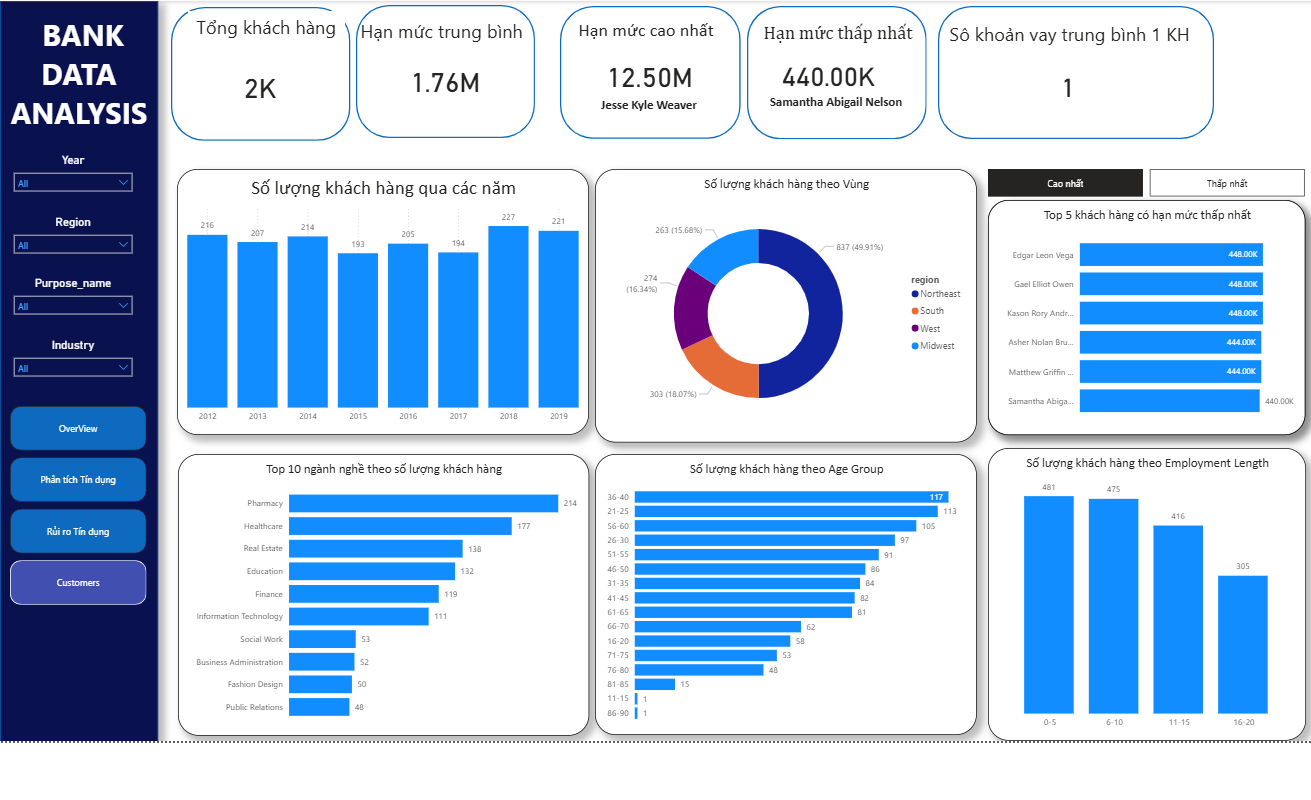

Layout of this report page (visuals, bound fields, positions):
{"tool":"powerbi","page":{"name":"Customers","canvas":[1920,1080],"ordinal":3},"visuals":[{"type":"shape","box":[0,0,230.8,1080.8],"z":0},{"type":"textbox","box":[0,14.4,230.5,267.6],"z":1000},{"type":"clusteredColumnChart","title":"Số lượng khách hàng qua các năm","fields":{"Category":["dim_date.year"],"Y":["Measure_Page1.Số lượng khách hàng"]},"box":[258.2,245.1,601.1,388.1],"z":3000},{"type":"shape","box":[249.6,8.7,261.8,195.5],"z":4000},{"type":"textbox","box":[274,14,228.7,47.1],"z":5000},{"type":"shape","box":[519.4,5.8,261.2,194],"z":6000},{"type":"cardVisual","fields":{"Data":["Measure_Page1.Số lượng khách hàng"]},"box":[258.2,75.9,243.6,93.4],"z":7000},{"type":"textbox","box":[520.9,20.4,259.7,55.4],"z":8000},{"type":"shape","box":[816.9,7,263.6,193.7],"z":9000},{"type":"textbox","box":[838.9,20.4,240.7,55.4],"z":10000},{"type":"shape","box":[1089.5,7.3,262.3,194.4],"z":11000},{"type":"textbox","box":[1108.8,24.8,243.6,54],"z":12000},{"type":"shape","box":[1368.5,7.3,402.7,194],"z":13000},{"type":"cardVisual","fields":{"Data":["Measure_custom.Hạn mức của KH thấp nhất"]},"box":[1124.1,62.8,192,80.3],"z":14000},{"type":"textbox","box":[1380.7,24.4,363.1,50.6],"z":15000},{"type":"clusteredColumnChart","title":"Số lượng khách hàng theo Employment Length","fields":{"Category":["dim_customer.employment_length_group"],"Y":["Measure_Page1.Số lượng khách hàng"]},"box":[1441.5,652.2,464,427.5],"z":16000},{"type":"clusteredBarChart","title":"Top 5 khách hàng có hạn mức cao nhất","fields":{"Category":["dim_customer.full_name"],"Y":["Measure_Page1.Tổng hạn mức tín dụng"]},"box":[1441.3,290.1,463.4,342.5],"z":17000},{"type":"cardVisual","fields":{"Data":["Measure_custom.Hạn mức TB mỗi khách hàng"]},"box":[528.1,67.1,243.6,93.4],"z":20000},{"type":"cardVisual","fields":{"Data":["Measure_custom.Hạn mức của KH cao nhất"]},"box":[825.6,64.6,244.4,83.8],"z":21000},{"type":"cardVisual","fields":{"Data":["Measure_custom.Số khoản vay TB mỗi khách hàng"]},"box":[1530.8,78.5,83.8,78.5],"z":22000},{"type":"clusteredBarChart","title":"Top 10 ngành nghề theo số lượng khách hàng","fields":{"Category":["dim_job.industry"],"Y":["Measure_Page1.Số lượng khách hàng"]},"box":[259.3,661,599.5,410.7],"z":25000},{"type":"slicer","title":"Year","fields":{"Values":["dim_date.year"]},"box":[10.2,221.8,192.6,74.4],"z":26000},{"type":"slicer","title":"Region","fields":{"Values":["dim_location.region"]},"box":[10.2,312.2,192.6,74.4],"z":27000},{"type":"slicer","title":"Purpose_name","fields":{"Values":["dim_purpose.purpose_name"]},"box":[10.2,401.2,192.6,74.4],"z":28000},{"type":"cardVisual","fields":{"Data":["Measure_custom.Khách hàng hạn mức cao nhất"]},"box":[825.6,104.7,242.6,83.8],"z":29001},{"type":"cardVisual","fields":{"Data":["Measure_custom.Khách hàng hạn mức thấp nhất"]},"box":[1097.9,101.2,242.6,83.8],"z":29002},{"type":"clusteredBarChart","title":"Top 5 khách hàng có hạn mức thấp nhất","fields":{"Category":["dim_customer.full_name"],"Y":["Measure_Page1.Tổng hạn mức tín dụng"]},"box":[1441.3,290.1,463.4,342.5],"z":29003},{"type":"bookmarkNavigator","box":[1441.3,244.5,463.4,40.3],"z":29004},{"type":"donutChart","title":"Số lượng khách hàng theo Vùng","fields":{"Category":["dim_location.region"],"Y":["Measure_Page1.Số lượng khách hàng"]},"box":[867.8,244.5,557.5,399],"z":29005},{"type":"clusteredBarChart","title":"Số lượng khách hàng theo Age Group","fields":{"Y":["Measure_Page1.Số lượng khách hàng"],"Category":["dim_customer.age_group"]},"box":[868.1,660.9,557.3,410],"z":29006},{"type":"slicer","title":"Industry","fields":{"Values":["dim_job.industry"]},"box":[10.2,491.7,192.6,74.4],"z":29007},{"type":"pageNavigator","box":[14.6,590.9,199.9,290.3],"z":29008}]}

Visuals, with their boxes on the page's 1920x1080 design canvas (x1, y1, x2, y2). These are canvas units, not pixel positions in the 1311x800 screenshot, which may show the page scaled, cropped or inside an application window:
shape: x1=0, y1=0, x2=231, y2=1081
textbox: x1=0, y1=14, x2=230, y2=282
"Số lượng khách hàng qua các năm" clusteredColumnChart: x1=258, y1=245, x2=859, y2=633
shape: x1=250, y1=9, x2=511, y2=204
textbox: x1=274, y1=14, x2=503, y2=61
shape: x1=519, y1=6, x2=781, y2=200
cardVisual - Measure_Page1.Số lượng khách hàng: x1=258, y1=76, x2=502, y2=169
textbox: x1=521, y1=20, x2=781, y2=76
shape: x1=817, y1=7, x2=1080, y2=201
textbox: x1=839, y1=20, x2=1080, y2=76
shape: x1=1090, y1=7, x2=1352, y2=202
textbox: x1=1109, y1=25, x2=1352, y2=79
shape: x1=1368, y1=7, x2=1771, y2=201
cardVisual - Measure_custom.Hạn mức của KH thấp nhất: x1=1124, y1=63, x2=1316, y2=143
textbox: x1=1381, y1=24, x2=1744, y2=75
"Số lượng khách hàng theo Employment Length" clusteredColumnChart: x1=1442, y1=652, x2=1906, y2=1080
"Top 5 khách hàng có hạn mức cao nhất" clusteredBarChart: x1=1441, y1=290, x2=1905, y2=633
cardVisual - Measure_custom.Hạn mức TB mỗi khách hàng: x1=528, y1=67, x2=772, y2=160
cardVisual - Measure_custom.Hạn mức của KH cao nhất: x1=826, y1=65, x2=1070, y2=148
cardVisual - Measure_custom.Số khoản vay TB mỗi khách hàng: x1=1531, y1=78, x2=1615, y2=157
"Top 10 ngành nghề theo số lượng khách hàng" clusteredBarChart: x1=259, y1=661, x2=859, y2=1072
"Year" slicer: x1=10, y1=222, x2=203, y2=296
"Region" slicer: x1=10, y1=312, x2=203, y2=387
"Purpose_name" slicer: x1=10, y1=401, x2=203, y2=476
cardVisual - Measure_custom.Khách hàng hạn mức cao nhất: x1=826, y1=105, x2=1068, y2=188
cardVisual - Measure_custom.Khách hàng hạn mức thấp nhất: x1=1098, y1=101, x2=1340, y2=185
"Top 5 khách hàng có hạn mức thấp nhất" clusteredBarChart: x1=1441, y1=290, x2=1905, y2=633
bookmarkNavigator: x1=1441, y1=244, x2=1905, y2=285
"Số lượng khách hàng theo Vùng" donutChart: x1=868, y1=244, x2=1425, y2=644
"Số lượng khách hàng theo Age Group" clusteredBarChart: x1=868, y1=661, x2=1425, y2=1071
"Industry" slicer: x1=10, y1=492, x2=203, y2=566
pageNavigator: x1=15, y1=591, x2=214, y2=881
